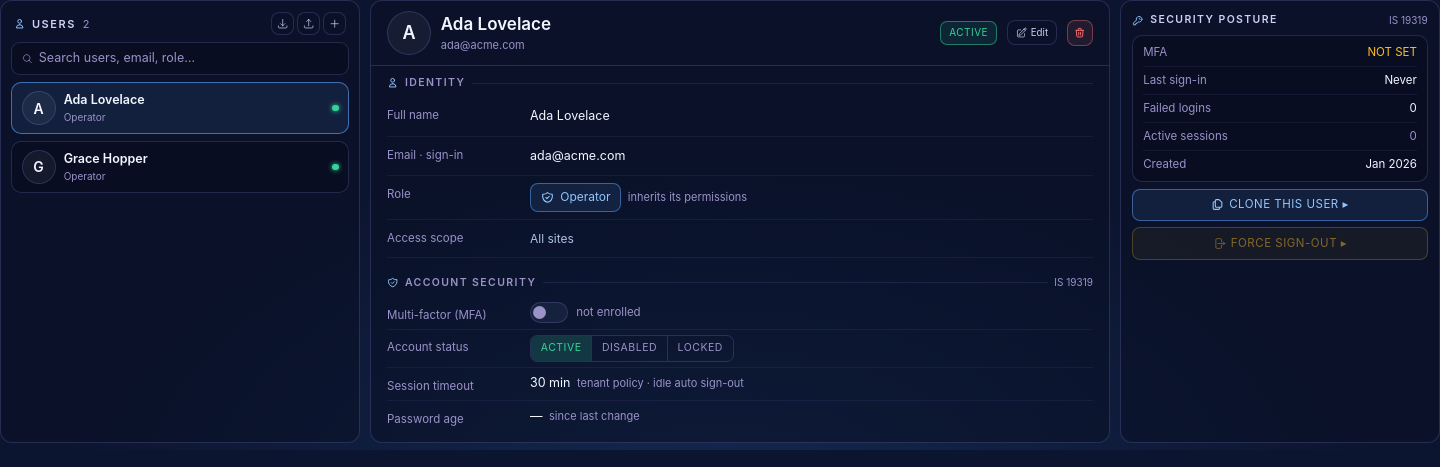
Test case: which row is open › keeps an explicit choice across a refetch of the list
Click the text "Grace Hopper" at (106, 158), box [64,151,148,166]
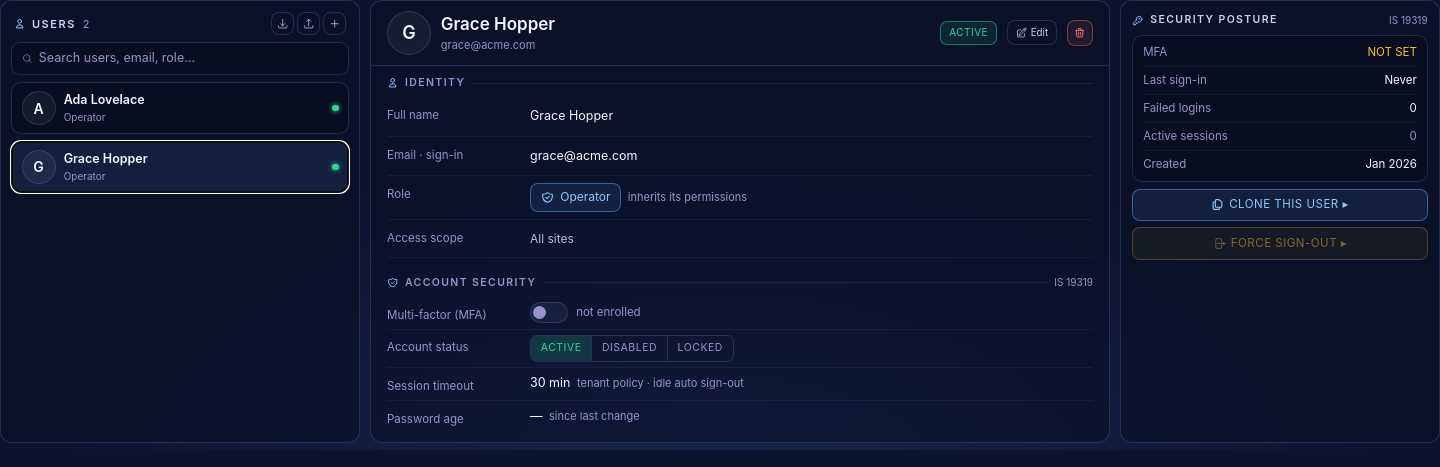
Expected: the 1st text "grace@acme.com" is shown, [441,38,535,52]
